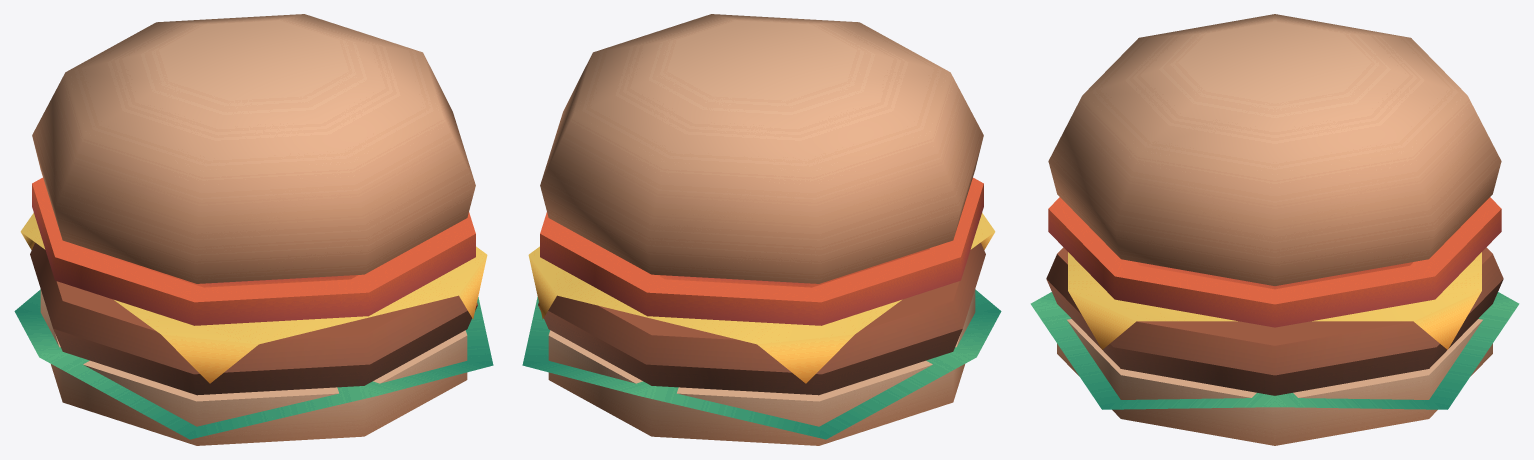
The model's file is burger.glb.
The picture shows the model from 3 angles, left to right: view 1: azimuth 30°, elevation 25°; view 2: azimuth 150°, elevation 25°; view 3: azimuth 270°, elevation 25°; orthographic projection.
Parts seen in each view (by area): view 1: bun-top, patty, tomato, bun-bottom, cheese, salad; view 2: bun-top, patty, tomato, bun-bottom, cheese, salad; view 3: bun-top, patty, tomato, bun-bottom, salad, cheese.
Boxes of the visible parts, x1=… form: bun-top: x1=32, y1=14, x2=475, y2=283; patty: x1=30, y1=242, x2=477, y2=395; tomato: x1=32, y1=177, x2=475, y2=325; bun-bottom: x1=40, y1=289, x2=467, y2=445; cheese: x1=20, y1=213, x2=487, y2=383; salad: x1=14, y1=289, x2=493, y2=439; bun-top: x1=540, y1=14, x2=983, y2=283; patty: x1=538, y1=242, x2=985, y2=395; tomato: x1=540, y1=177, x2=983, y2=325; bun-bottom: x1=548, y1=289, x2=975, y2=445; cheese: x1=528, y1=213, x2=995, y2=383; salad: x1=522, y1=289, x2=1001, y2=439; bun-top: x1=1048, y1=14, x2=1501, y2=285; patty: x1=1046, y1=247, x2=1503, y2=395; tomato: x1=1048, y1=197, x2=1501, y2=327; bun-bottom: x1=1057, y1=319, x2=1492, y2=445; salad: x1=1030, y1=292, x2=1519, y2=409; cheese: x1=1068, y1=252, x2=1481, y2=349.
Bounding box in the file's own units: 0.8615 × 0.5663 × 0.8615.
1 material, 1 textured.
